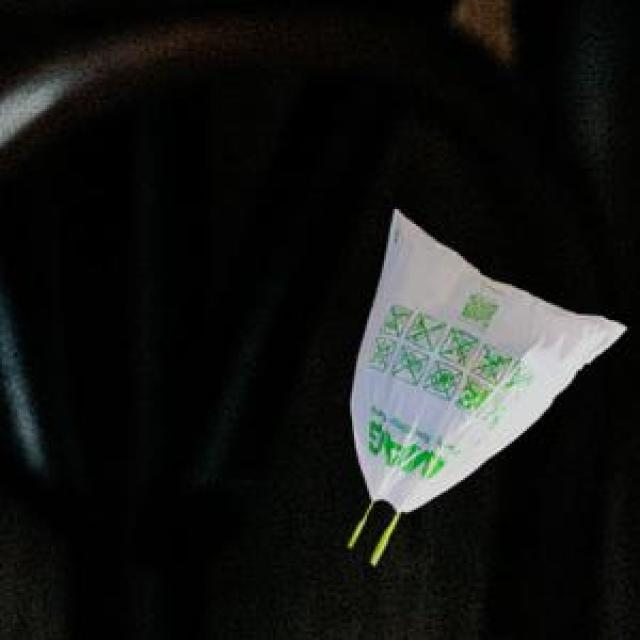Bolsa-de-plastico: (348, 211, 626, 521)
